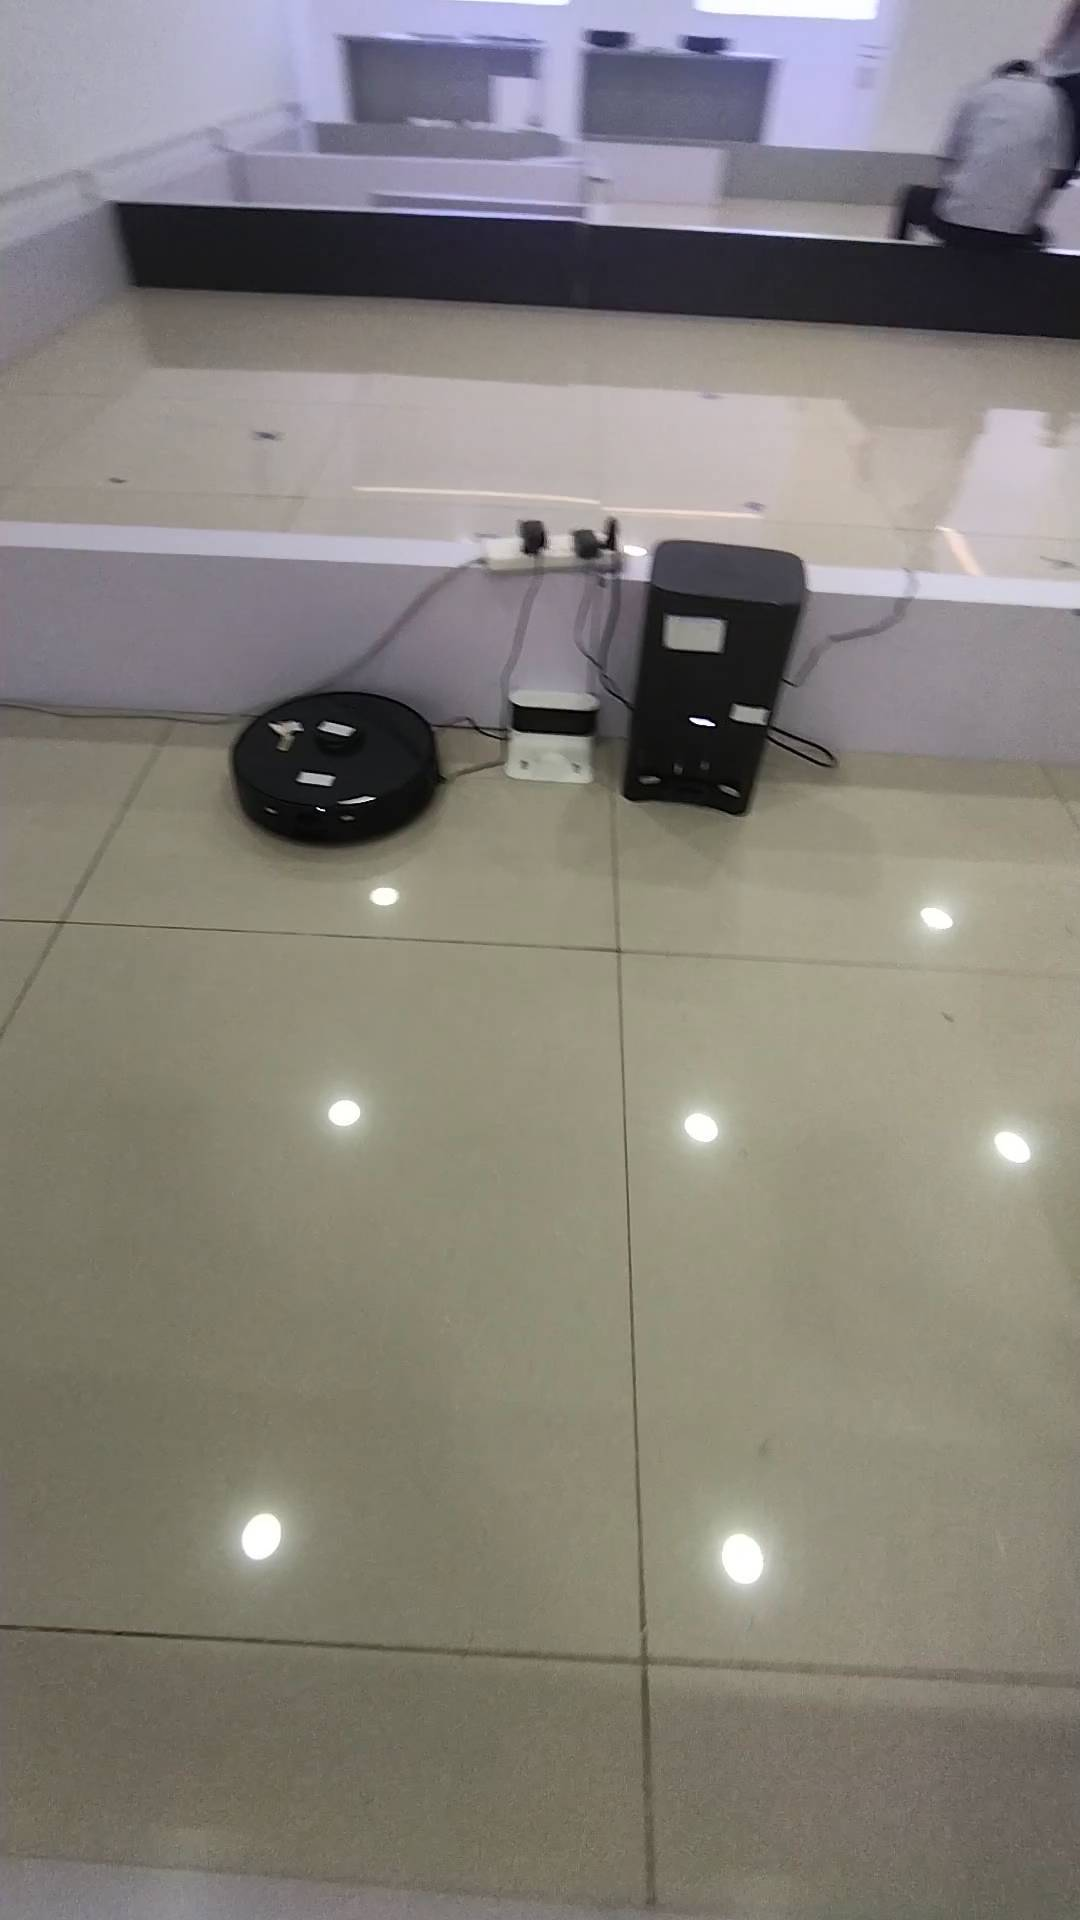dust collecting barrel: (620, 541, 811, 818)
recharge seat: (505, 687, 603, 789)
